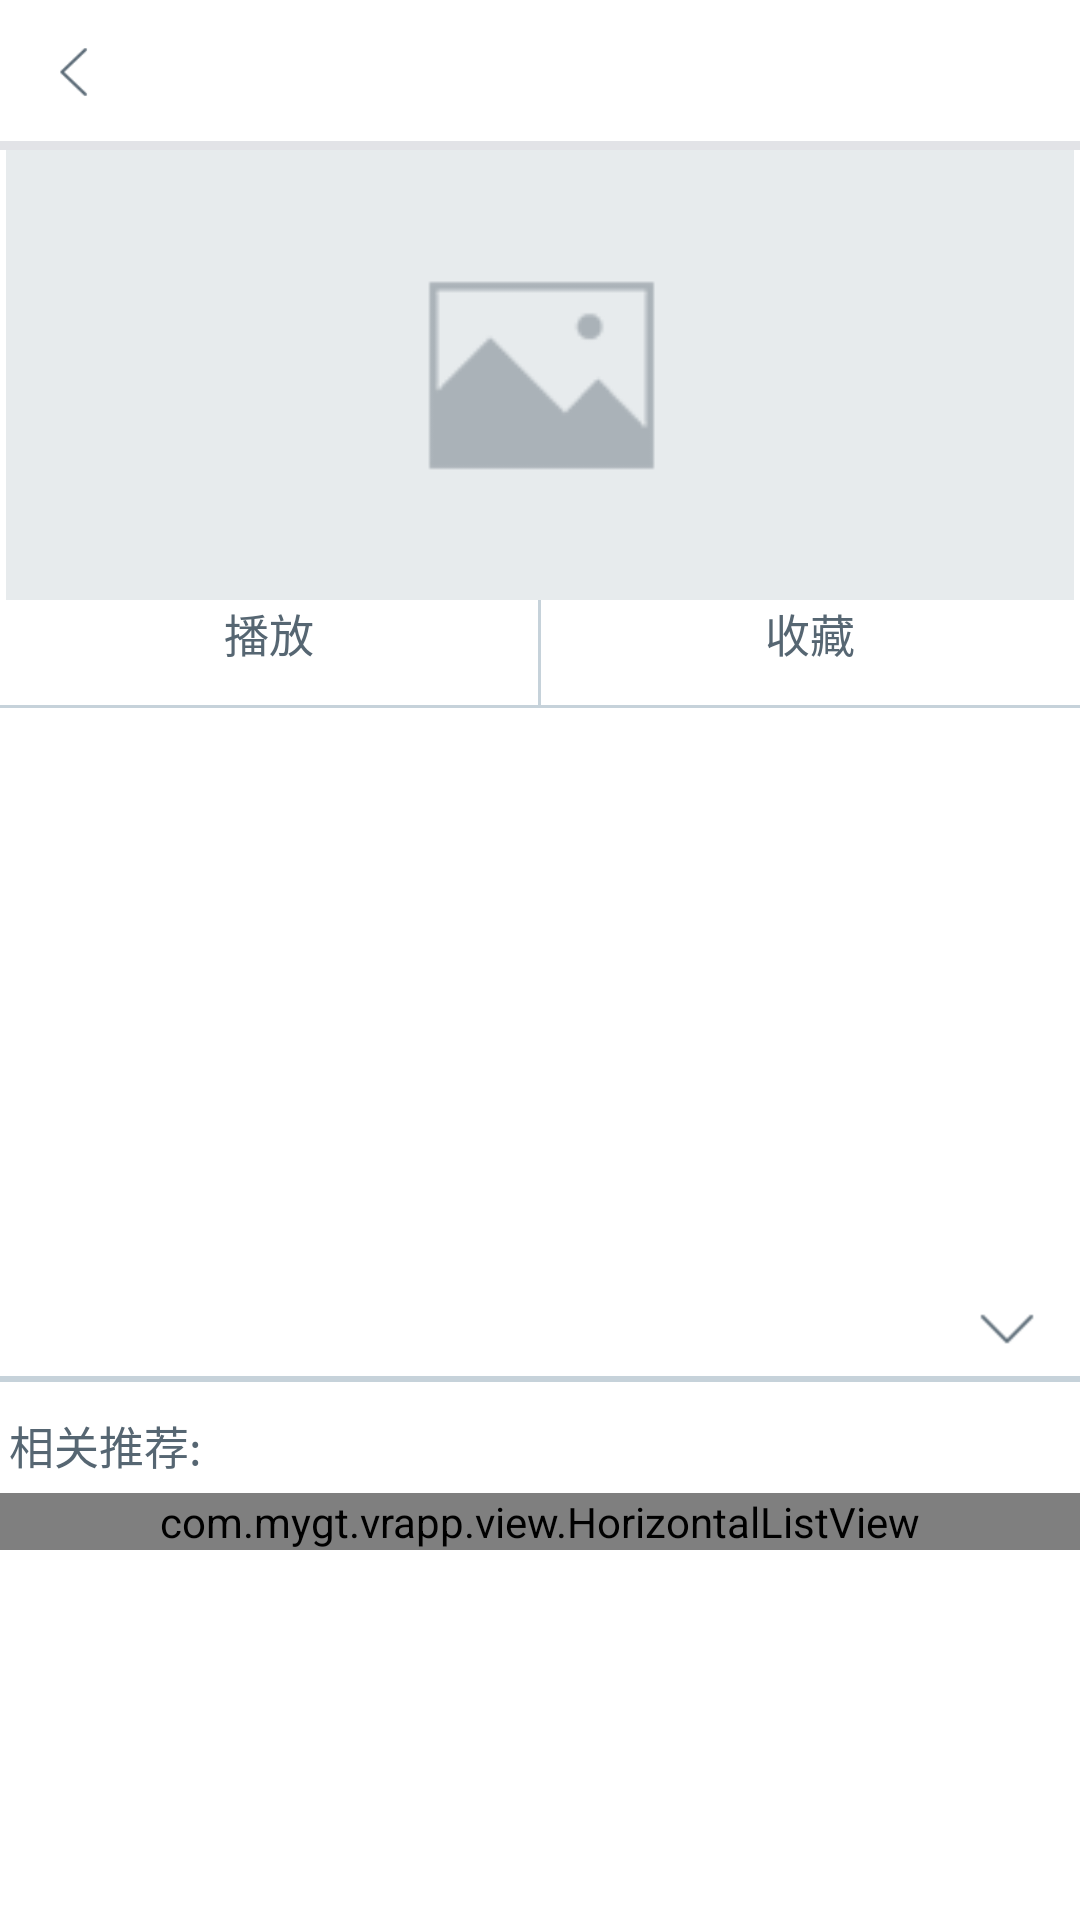

Icon bounding boxes for this 1080px x 1920px phone screenshot, format (x1, y1, x2, y2):
back: (60, 48, 87, 96)
